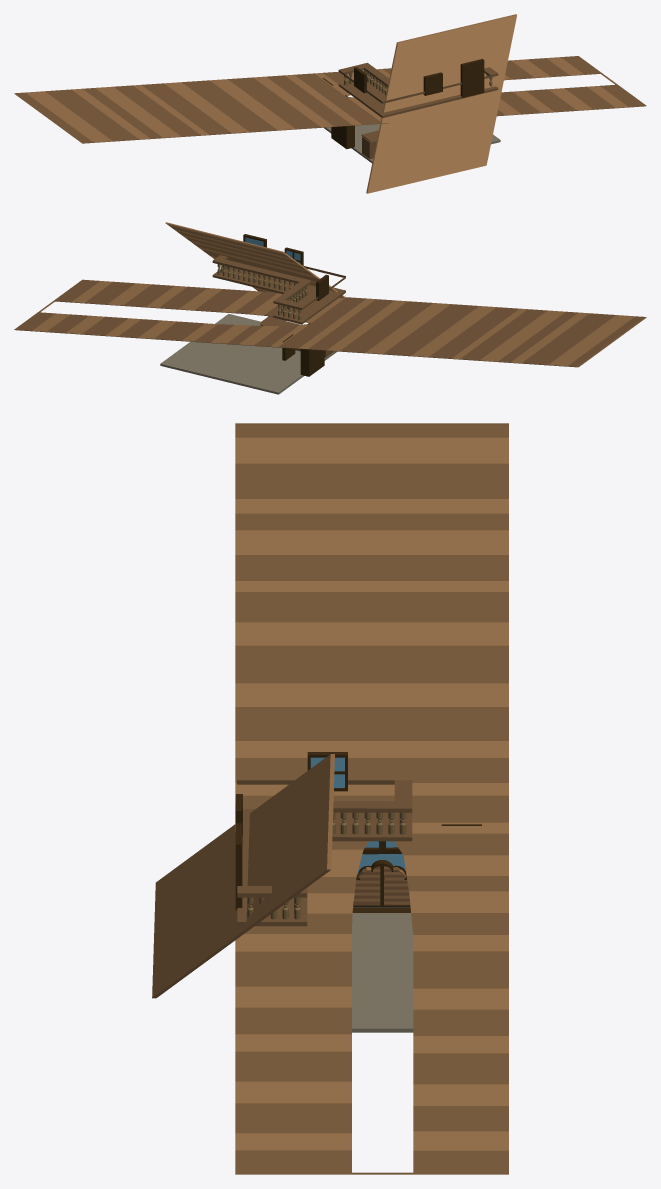
File: Saloon.glb
3 views of the same model, one above another, from view 1: azimuth 30°, elevation 25°; view 2: azimuth 150°, elevation 25°; view 3: azimuth 270°, elevation 25° (orthographic). The views are drawn at different scales.
Visible parts, largest first — view 1: Cube.001, Cube.002, UpstairsDoor, Balcony, Cube, GeneralRoomShape, DoorFrame, BalconyLedge, Window3, Bar, Cube.003; view 2: Cube.001, GeneralRoomShape, Cube.002, Cube, Balcony, Cube.003, DoorFrame, BalconyLedge, window2; view 3: Cube.001, Cube.002, GeneralRoomShape, BalconyLedge, Balcony, Cube.
Part boxes in pixels (x1,y1,x2,y2): Cube.001: (14, 56, 646, 143); Cube.002: (366, 14, 516, 193); UpstairsDoor: (460, 59, 484, 97); Balcony: (338, 81, 385, 111); Cube: (365, 86, 498, 117); GeneralRoomShape: (323, 124, 500, 163); DoorFrame: (331, 125, 354, 149); BalconyLedge: (338, 62, 410, 101); Window3: (423, 72, 442, 95); Bar: (361, 130, 378, 159); Cube.003: (365, 67, 498, 103); Cube.001: (14, 279, 646, 367); GeneralRoomShape: (160, 314, 337, 394); Cube.002: (165, 222, 345, 298); Cube: (212, 267, 345, 305); Balcony: (273, 286, 345, 324); Cube.003: (212, 255, 345, 290); DoorFrame: (300, 349, 324, 376); BalconyLedge: (273, 269, 345, 309); window2: (316, 274, 328, 300); Cube.001: (235, 423, 508, 1174); Cube.002: (152, 754, 334, 998); GeneralRoomShape: (352, 913, 413, 1032); BalconyLedge: (237, 780, 412, 812); Balcony: (242, 810, 412, 841); Cube: (237, 809, 307, 926).
Size of the model in its own units: 28.51 by 4.86 by 7.8.
